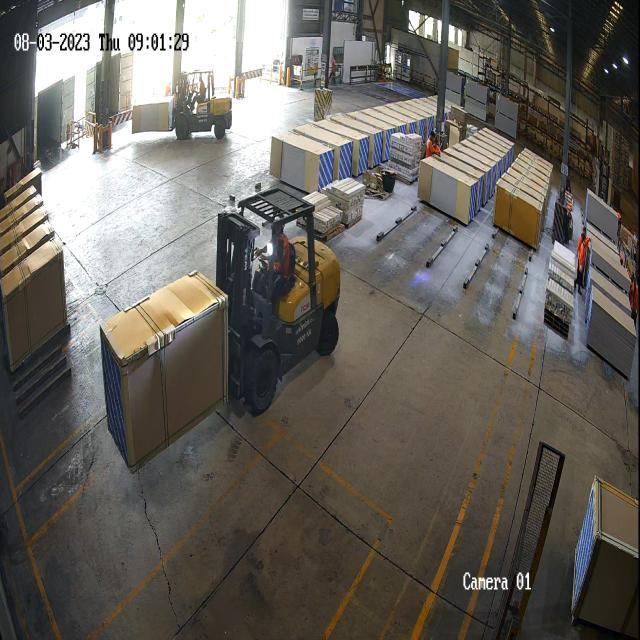forklift: (213, 176, 344, 420), (172, 65, 235, 152)
person: (579, 236, 587, 292), (426, 131, 434, 155)
